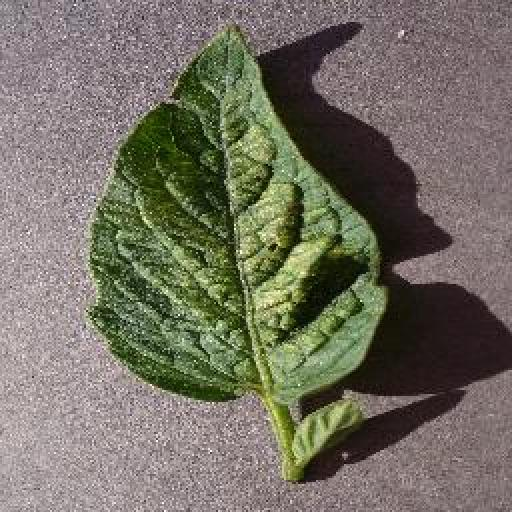disease_tomato: (86, 20, 384, 402)
